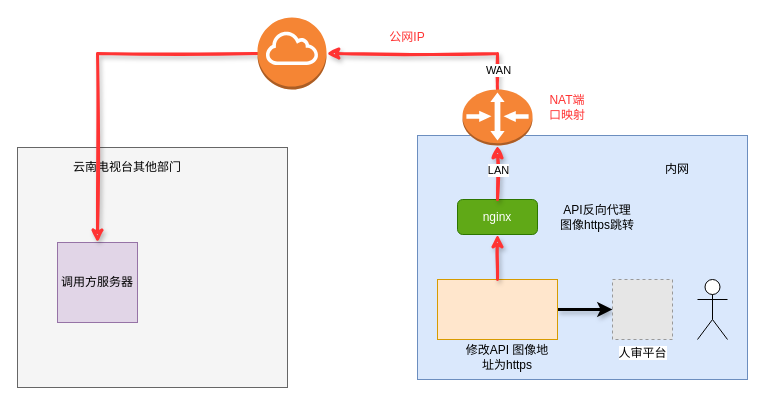
The diagram is 765 pixels wide and 405 high, and some of its shapes have lost their labels. Grey dashed boxes stand in for pictures. The centre of each missing label's shape, as x and y in pixels:
"内容安全服务" goes at point (497, 309).
"审核员工" goes at point (712, 309).
